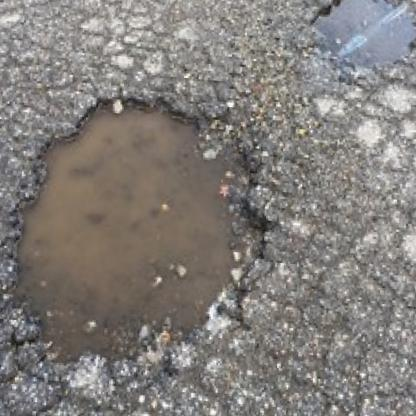pothole: (0, 80, 287, 383), (308, 0, 416, 84)
